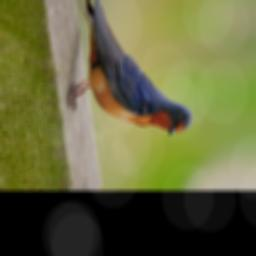Swallow: (54, 0, 210, 139)
